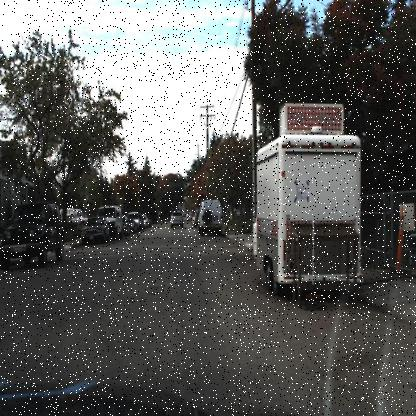car: (0, 197, 65, 267), (200, 198, 228, 242), (82, 218, 109, 243), (170, 206, 187, 232)
truck: (251, 131, 363, 285)
